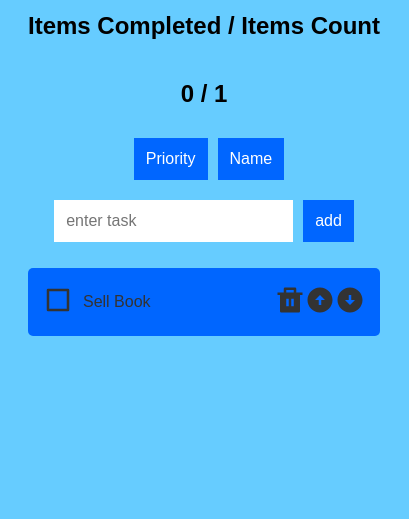
Test case: Application test set 001 › Todo List Complete tasks and check count
In the field with test id "Todolist-textField": (174, 221) [54,200,293,242], type "Make Todo List"
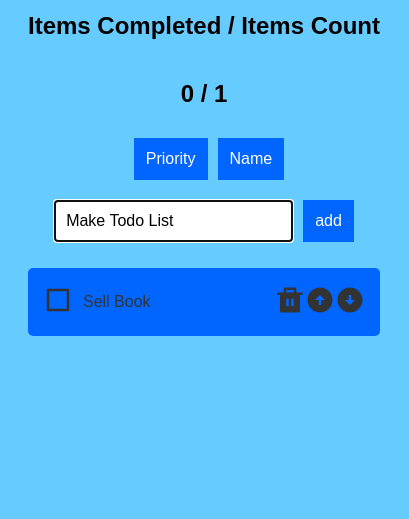
Click the button with test id "Todolist-submitButton": (329, 221) [303,200,354,242]
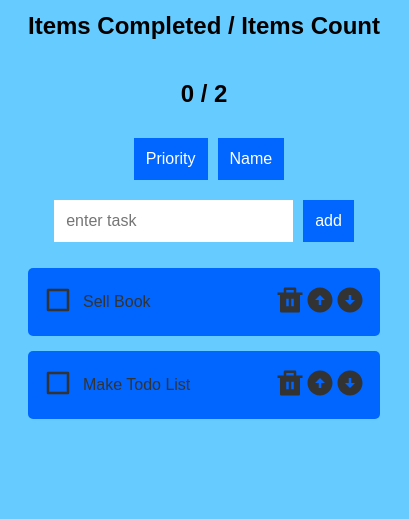
In the field with test id "Todolist-textField": (174, 221) [54,200,293,242], type "Finish Todo List development"
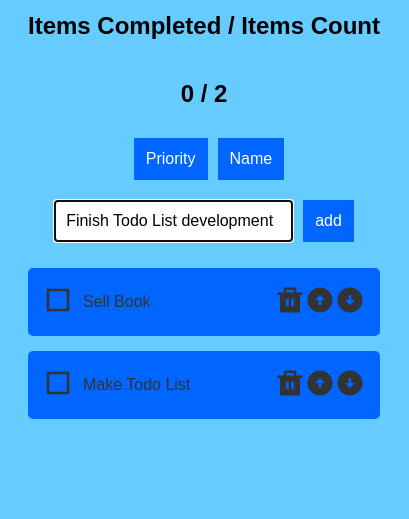
Click the button with test id "Todolist-submitButton": (329, 221) [303,200,354,242]
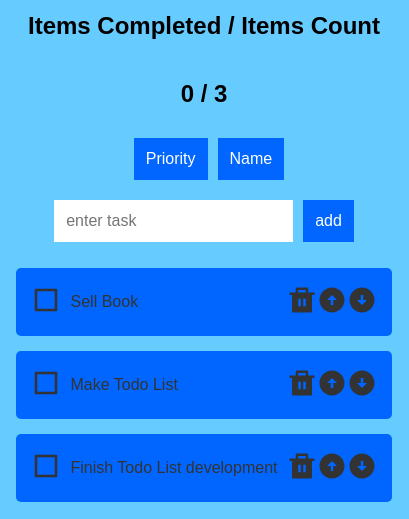
Check: the heading with test id "Todolist-counts" reads "0 / 3", box [181,80,228,108]
Click the icon with test id "Not-Completed Make Todo List": (46, 383) [31,368,61,398]
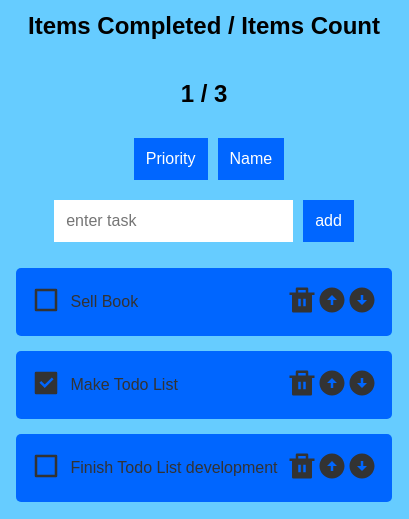
Check: the heading with test id "Todolist-counts" reads "1 / 3", box [181,80,228,108]
